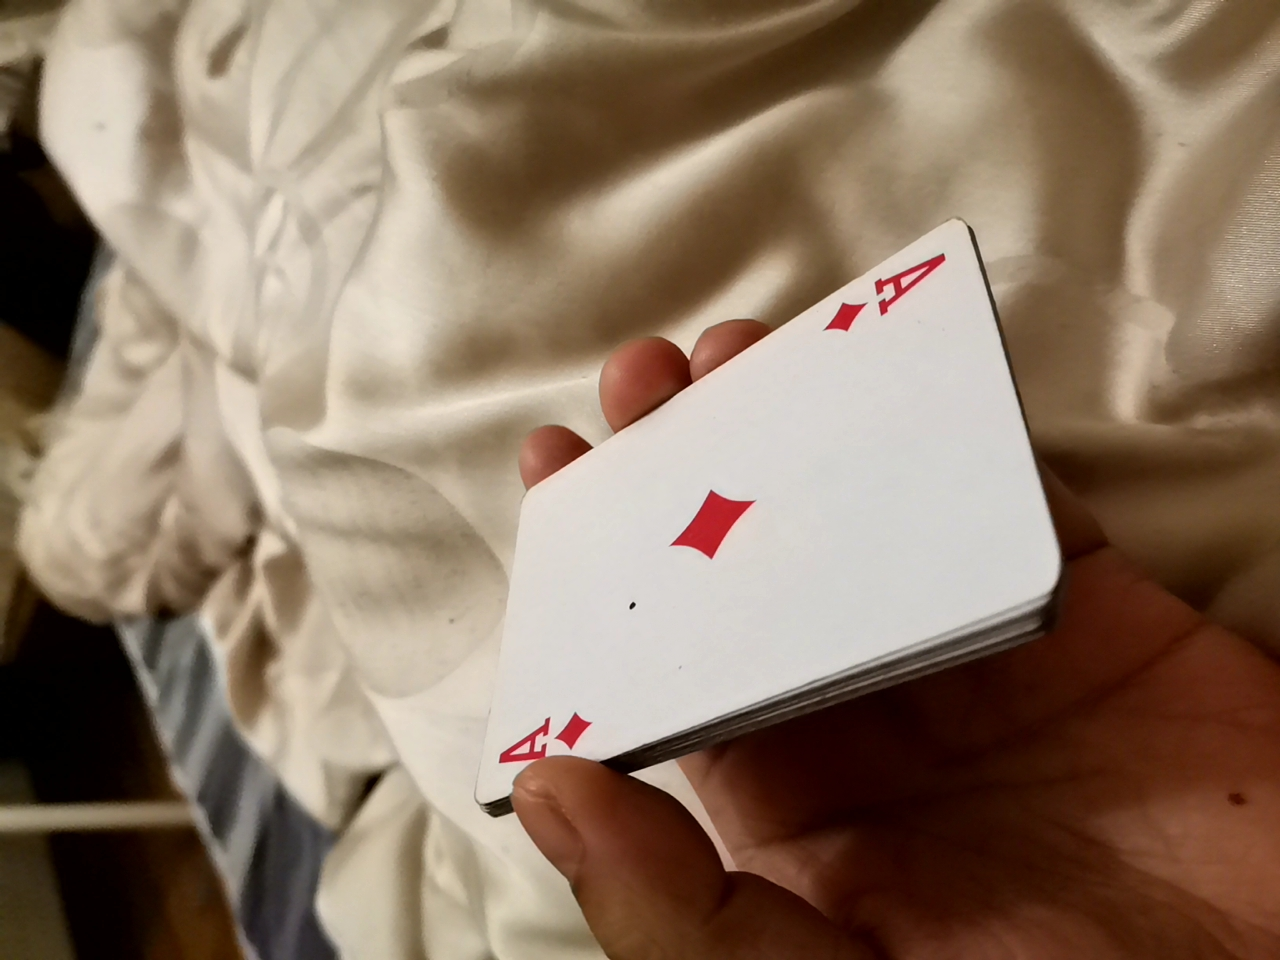fk a: (467, 274, 1053, 786)
